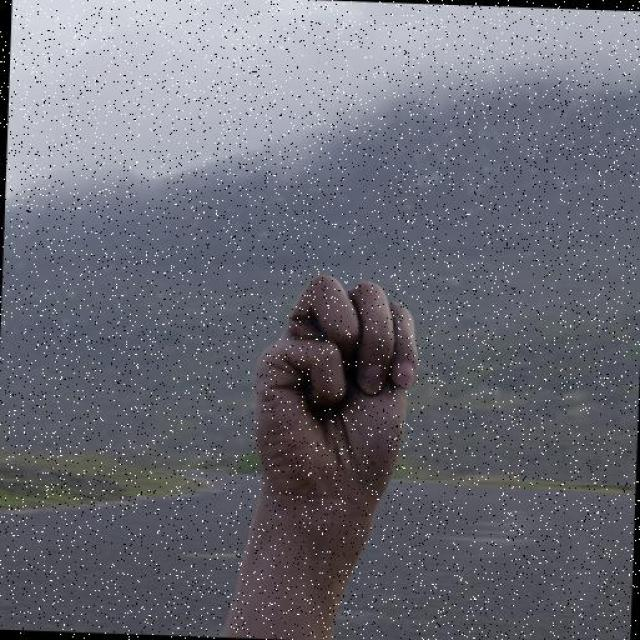M: (245, 270, 425, 511)
